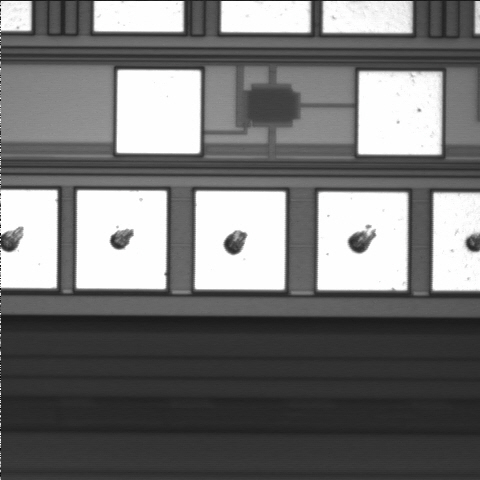pad: (76, 190, 167, 289), (195, 191, 285, 290), (318, 192, 408, 290), (117, 70, 201, 153), (358, 72, 442, 155)
